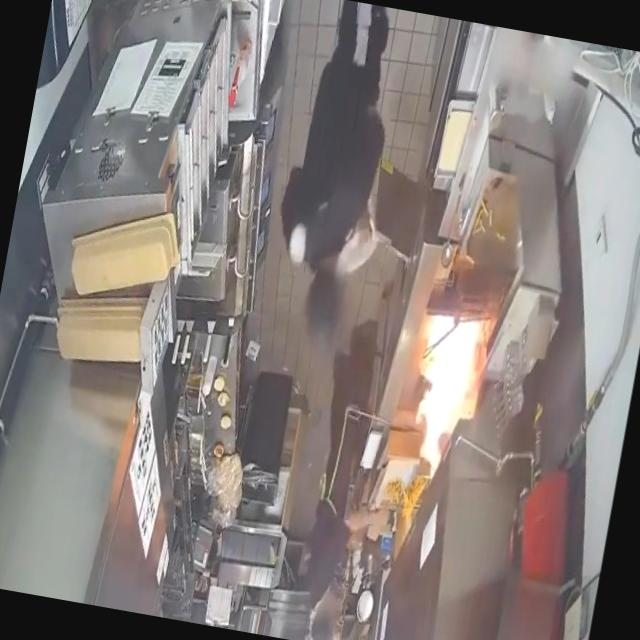fire: (386, 284, 502, 496)
